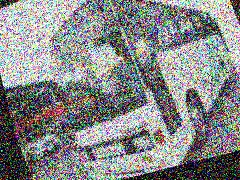bus: (17, 0, 240, 180)
